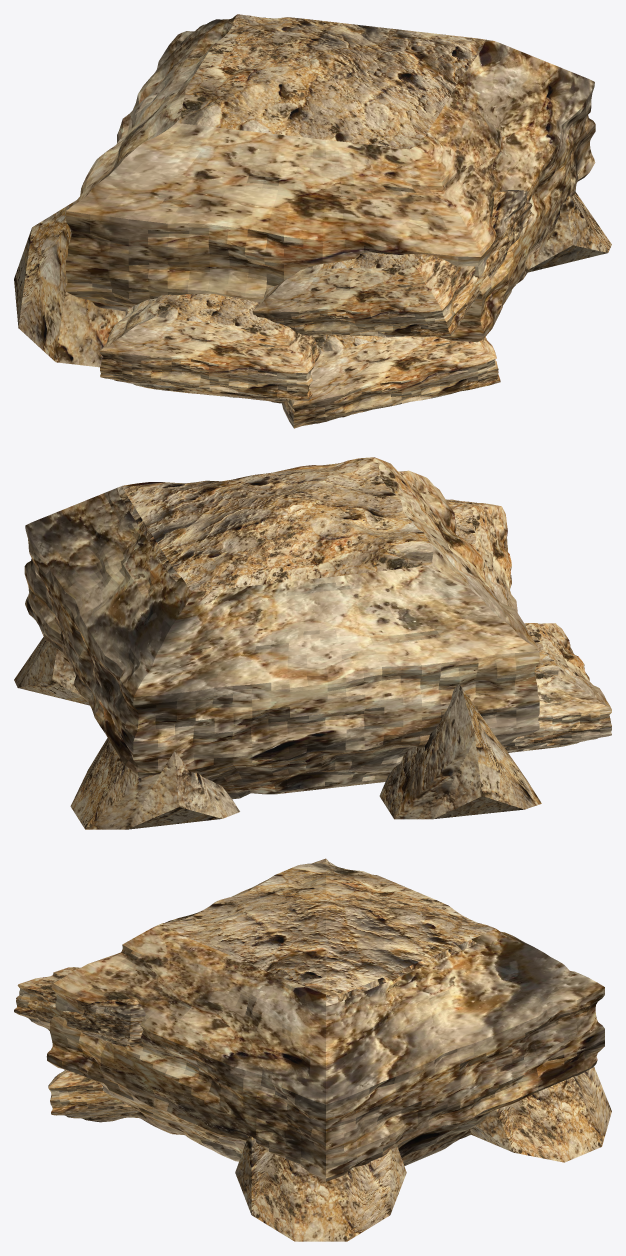
The model's file is Sandy rock.fbx.
3 views of the same model, one above another, from view 1: azimuth 30°, elevation 25°; view 2: azimuth 150°, elevation 25°; view 3: azimuth 270°, elevation 25° (orthographic). The views are drawn at different scales.
Parts seen in each view (by area): view 1: rock, rock.001, rock.003, rock.002, Sphere.002, Sphere; view 2: rock, Sphere.002, Sphere.001, rock.001, rock.003, Sphere; view 3: rock, Sphere, Sphere.001, rock.003, rock.002.
Part boxes in pixels (left/top/right/bottom): rock: left=66, top=14, right=595, bottom=342; rock.001: left=100, top=293, right=319, bottom=403; rock.003: left=252, top=190, right=534, bottom=336; rock.002: left=281, top=334, right=500, bottom=428; Sphere.002: left=14, top=200, right=125, bottom=367; Sphere: left=528, top=192, right=611, bottom=272; rock: left=24, top=457, right=539, bottom=799; Sphere.002: left=379, top=684, right=541, bottom=819; Sphere.001: left=70, top=738, right=239, bottom=829; rock.001: left=503, top=623, right=611, bottom=752; rock.003: left=446, top=499, right=517, bottom=612; Sphere: left=14, top=637, right=89, bottom=705; rock: left=46, top=858, right=604, bottom=1181; Sphere: left=235, top=1136, right=406, bottom=1241; Sphere.001: left=470, top=1067, right=611, bottom=1162; rock.003: left=14, top=967, right=145, bottom=1046; rock.002: left=48, top=1069, right=140, bottom=1122.
Size of the model in its own units: 10.13 by 4.47 by 10.45.
